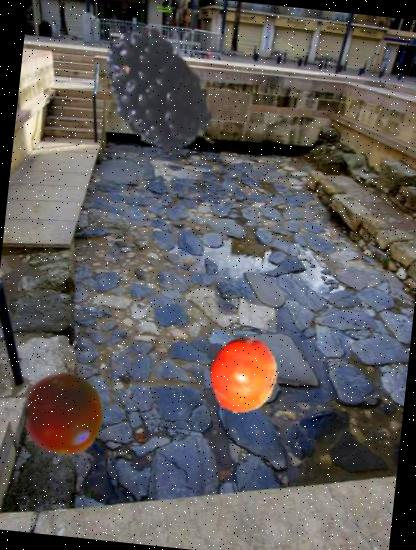Clementine: (199, 332, 288, 420)
Mulberry: (70, 26, 228, 184)
Tomato: (19, 368, 110, 460)
